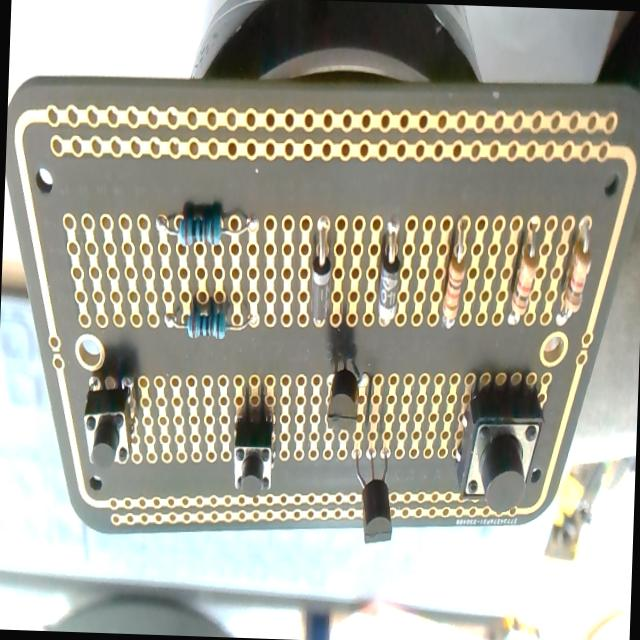diode: (376, 216, 402, 328), (309, 212, 334, 327)
resistor: (154, 206, 254, 248), (556, 220, 593, 329), (164, 296, 252, 340), (439, 218, 469, 330), (508, 223, 540, 324)
switch: (452, 372, 546, 516), (79, 368, 138, 478), (230, 394, 277, 498)
transistor: (349, 444, 397, 547), (323, 355, 368, 431)
